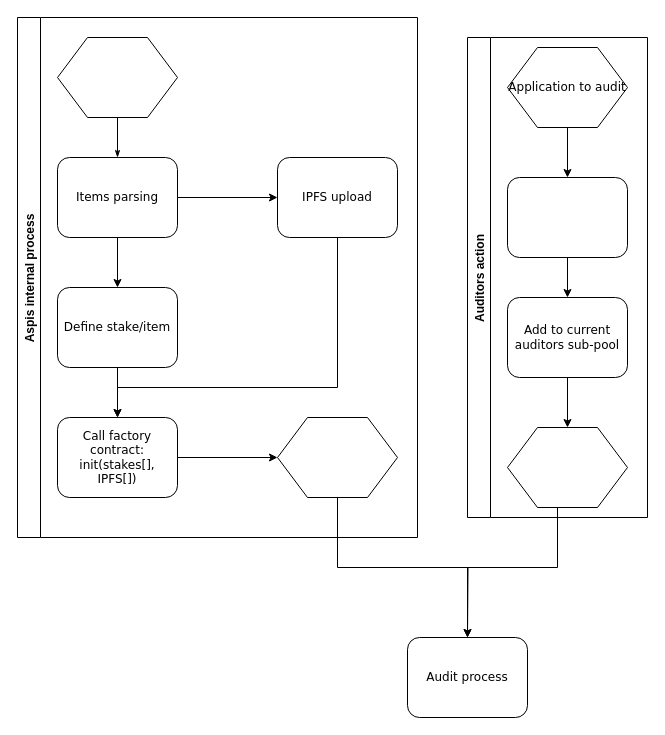
Image size: 665x735. Some labels were removed from this diagram. The shapes that lost their labels are listed below. From the top down, each one's centre as x and y in pixels, then its label:
pixel 117 77: Initial submission
pixel 567 217: Delegate stake
pixel 337 457: New contract address
pixel 567 467: Sub-pool of auditors
